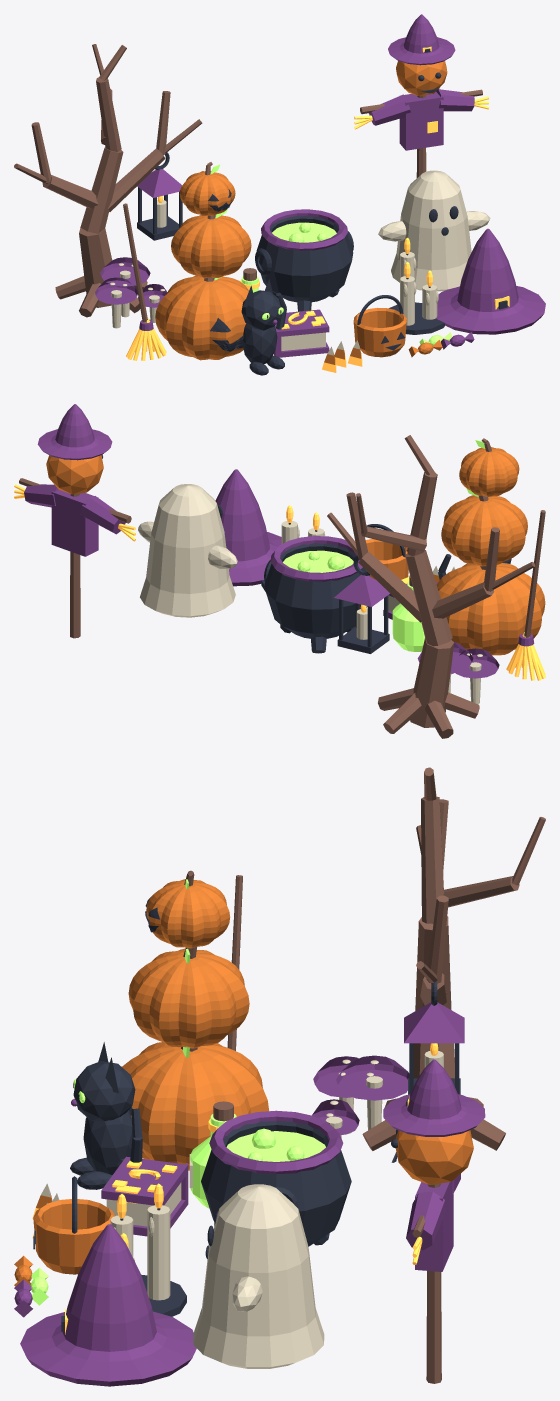
File: moonlit-mischief-witches-treat-corner-88d4b99c-starter-scene__2281.glb
The picture shows the model from 3 angles, top to bottom: view 1: azimuth 30°, elevation 25°; view 2: azimuth 150°, elevation 25°; view 3: azimuth 270°, elevation 25°; orthographic projection. The views are drawn at different scales.
Visible parts, largest first — view 1: 003-pumpkin-stack/0, 000-crooked-tree/0, 004-friendly-ghost/0, 012-witch-hat/0, 001-scarecrow/1, 002-witch-cauldron/0, 013-black-cat/0, 008-candy-pail/0, 014-toadstool-cluster/1, 007-candle-trio/1, 002-witch-cauldron/1, 001-scarecrow/2 (+12 smaller); view 2: 000-crooked-tree/0, 003-pumpkin-stack/0, 004-friendly-ghost/0, 001-scarecrow/1, 002-witch-cauldron/0, 012-witch-hat/0, 001-scarecrow/2, 002-witch-cauldron/1, 015-hanging-lantern/0, 001-scarecrow/0, 002-witch-cauldron/2, 014-toadstool-cluster/1 (+7 smaller); view 3: 003-pumpkin-stack/0, 004-friendly-ghost/0, 012-witch-hat/0, 000-crooked-tree/0, 001-scarecrow/1, 002-witch-cauldron/0, 013-black-cat/0, 014-toadstool-cluster/1, 008-candy-pail/0, 002-witch-cauldron/1, 001-scarecrow/2, 005-spellbook/0 (+11 smaller).
Boxes of the visible parts, x1,y1,x2,y2 form: 003-pumpkin-stack/0: (155,171,251,360); 000-crooked-tree/0: (14,44,202,317); 004-friendly-ghost/0: (378,170,490,291); 012-witch-hat/0: (436,228,545,334); 001-scarecrow/1: (369,14,474,150); 002-witch-cauldron/0: (255,215,353,311); 013-black-cat/0: (241,279,286,375); 008-candy-pail/0: (353,307,406,357); 014-toadstool-cluster/1: (95,257,167,307); 007-candle-trio/1: (400,252,438,325); 002-witch-cauldron/1: (261,209,347,250); 001-scarecrow/2: (396,61,447,95); 000-crooked-tree/0: (327,435,535,738); 003-pumpkin-stack/0: (436,447,545,655); 004-friendly-ghost/0: (138,484,237,617); 001-scarecrow/1: (24,404,125,556); 002-witch-cauldron/0: (264,543,369,653); 012-witch-hat/0: (215,469,281,586); 001-scarecrow/2: (46,455,103,494); 002-witch-cauldron/1: (270,536,362,581); 015-hanging-lantern/0: (337,555,389,653); 001-scarecrow/0: (19,478,131,638); 002-witch-cauldron/2: (283,550,353,572); 014-toadstool-cluster/1: (417,642,499,678); 003-pumpkin-stack/0: (122,879,269,1170); 004-friendly-ghost/0: (193,1184,324,1368); 012-witch-hat/0: (20,1224,196,1386); 000-crooked-tree/0: (362,767,545,1150); 001-scarecrow/1: (383,1059,485,1271); 002-witch-cauldron/0: (201,1121,351,1246); 013-black-cat/0: (70,1042,142,1189); 014-toadstool-cluster/1: (312,1055,409,1135); 008-candy-pail/0: (33,1199,114,1274); 002-witch-cauldron/1: (209,1110,343,1174); 001-scarecrow/2: (396,1130,473,1185); 005-spellbook/0: (101,1156,188,1236).
Size of the model in its own units: 4.76 by 2.44 by 3.03.
